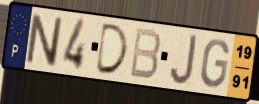4: (60, 17, 87, 74)
B: (128, 26, 163, 82)
D: (93, 21, 130, 77)
G: (199, 38, 231, 90)
J: (168, 33, 199, 87)
N: (25, 11, 64, 69)
